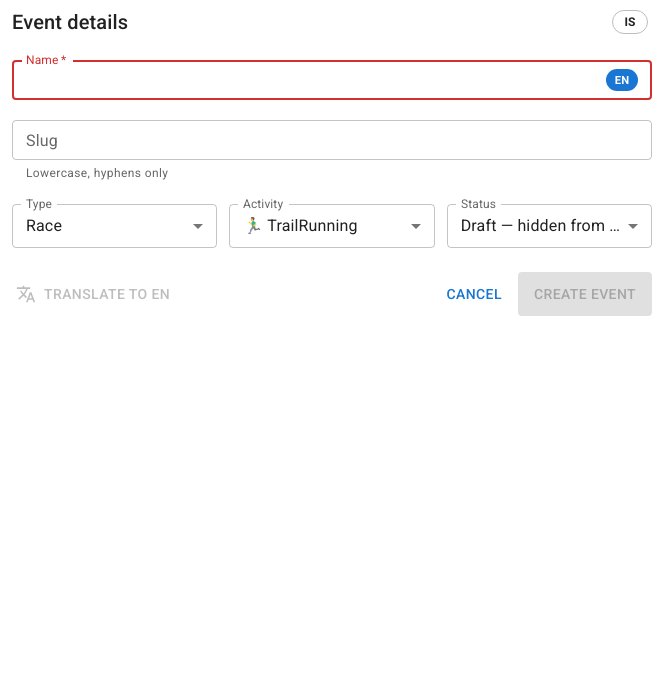
Scenario: EventDetailsStep — Type/Activity/Status Selects are reachable via getByLabelText (#977) › changes Activity via the Select reachable by its label
Press the mouse on the dropdown named "Activity" at (300, 226), box x1=243 y1=216 x2=358 y2=235
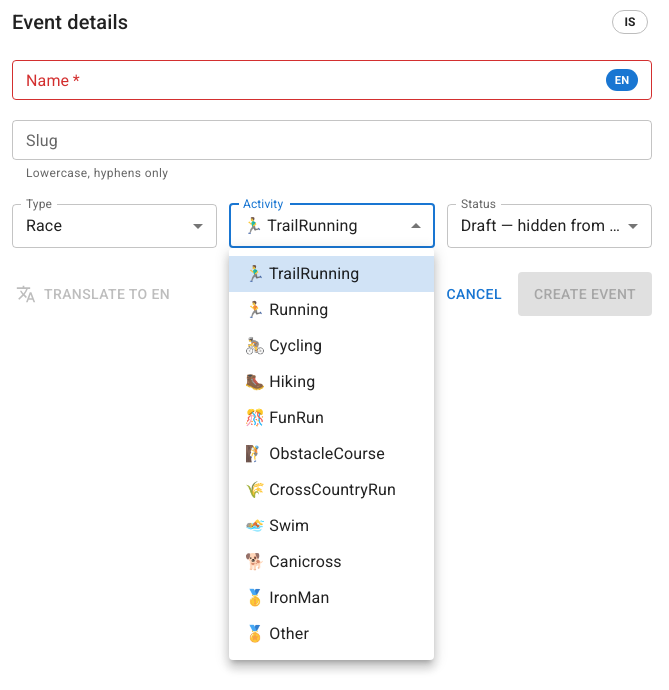
Click the option "🚴 Cycling". click: (284, 346)
box: x1=245 y1=336 x2=322 y2=355
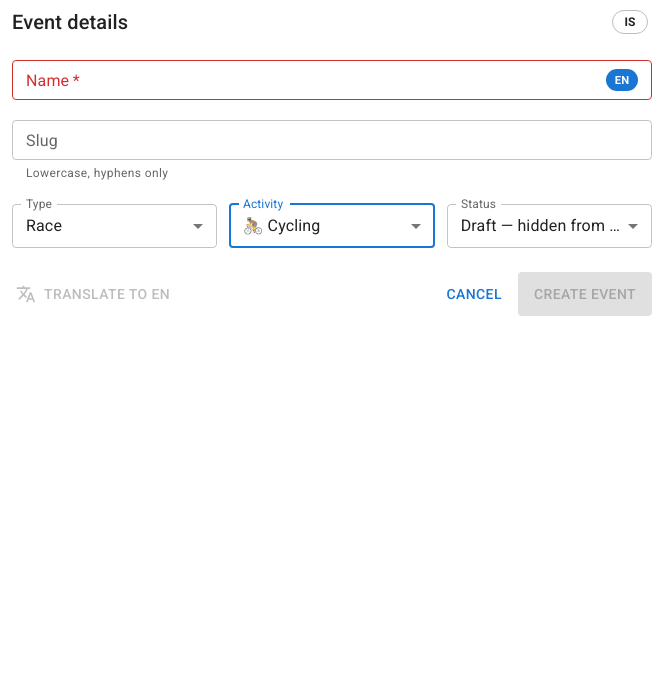
Now the dropdown named "Activity" reads "🚴 Cycling", box x1=243 y1=216 x2=320 y2=235
